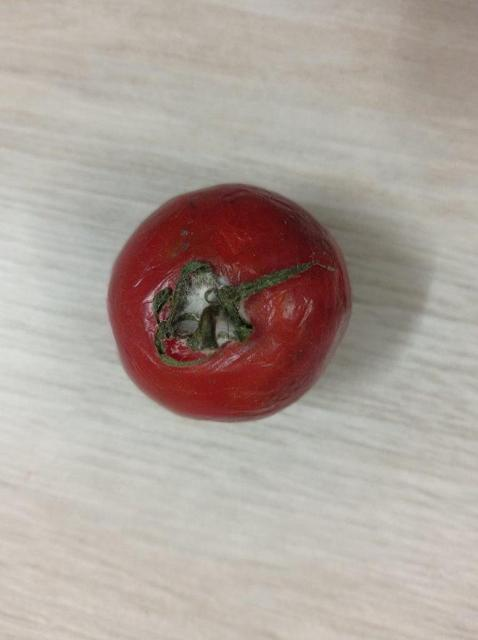defect: (102, 179, 360, 425)
